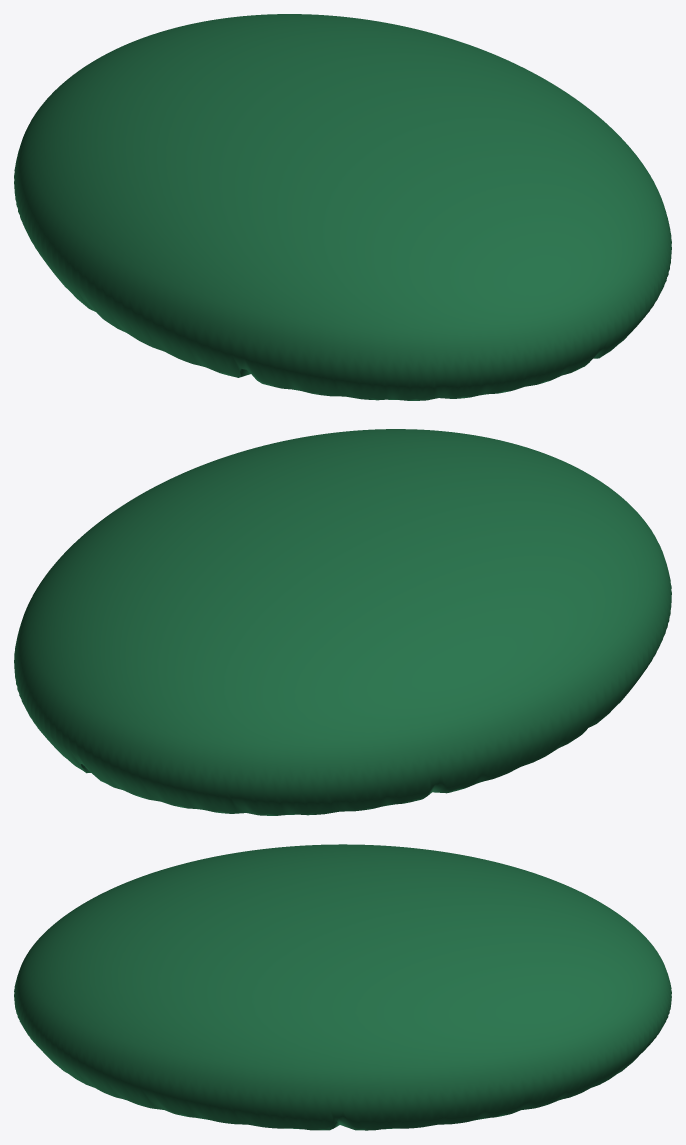
The model's file is jewelry.glb.
The picture shows the model from 3 angles, top to bottom: view 1: azimuth 30°, elevation 25°; view 2: azimuth 150°, elevation 25°; view 3: azimuth 270°, elevation 25°; orthographic projection. The views are drawn at different scales.
Parts seen in each view (by area): view 1: Gemstone Jade; view 2: Gemstone Jade; view 3: Gemstone Jade.
Part boxes in pixels (x1=…): Gemstone Jade: x1=14, y1=14, x2=671, y2=400; Gemstone Jade: x1=14, y1=429, x2=671, y2=815; Gemstone Jade: x1=14, y1=844, x2=671, y2=1130.
Bounding box in the file's own units: 1.98 × 0.5997 × 2.53.
